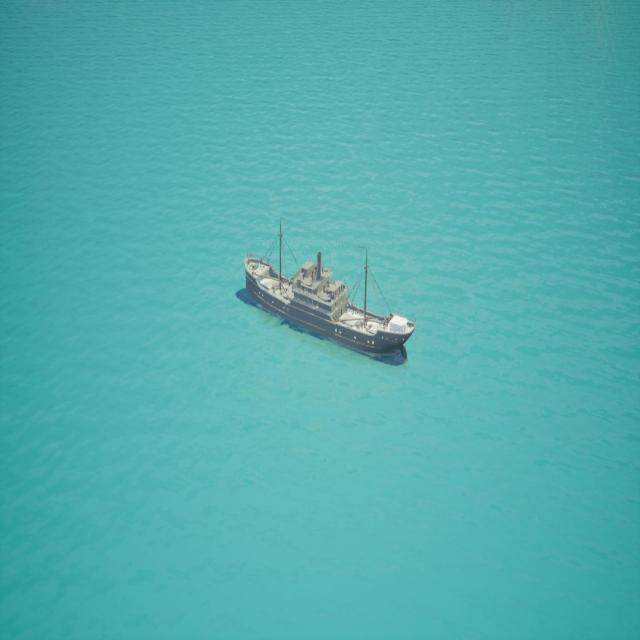fishing ship: (241, 237, 416, 365)
